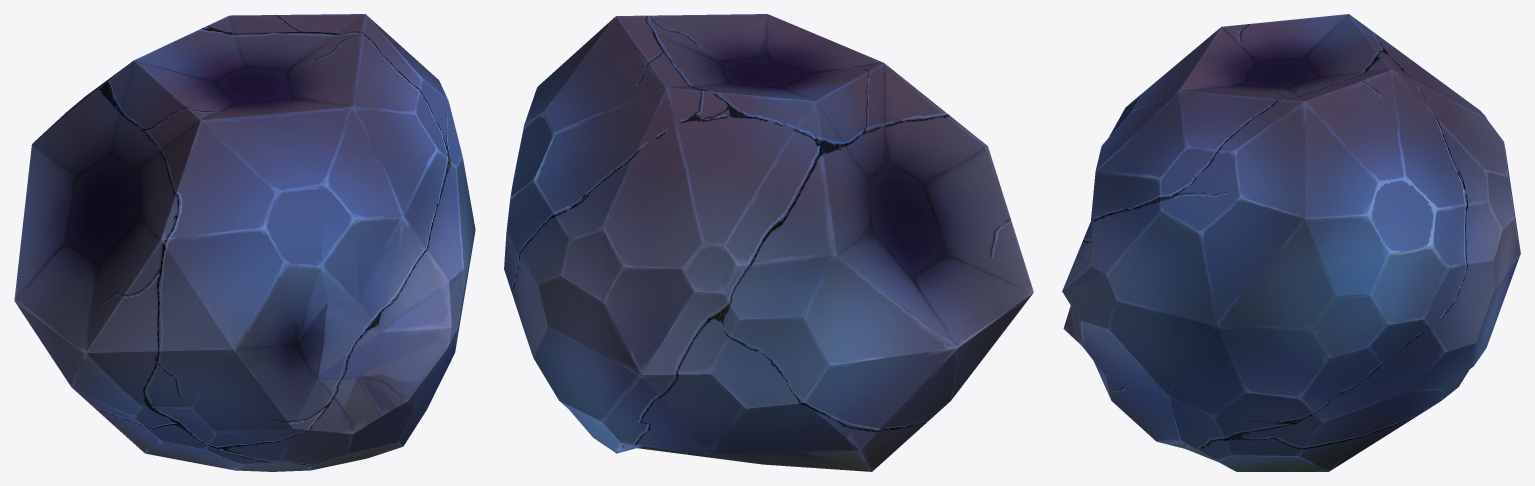
File: asteroid2.fbx
3 renders of one model, left to right at view 1: azimuth 30°, elevation 25°; view 2: azimuth 150°, elevation 25°; view 3: azimuth 270°, elevation 25°, orthographic. The views are drawn at different scales.
Parts seen in each view (by area): view 1: Icosphere; view 2: Icosphere; view 3: Icosphere.
Boxes of the visible parts, x1,y1,x2,y2 form: Icosphere: (14,14,475,471); Icosphere: (504,14,1033,471); Icosphere: (1062,14,1520,471).
Size of the model in its own units: 978 by 926 by 974.
